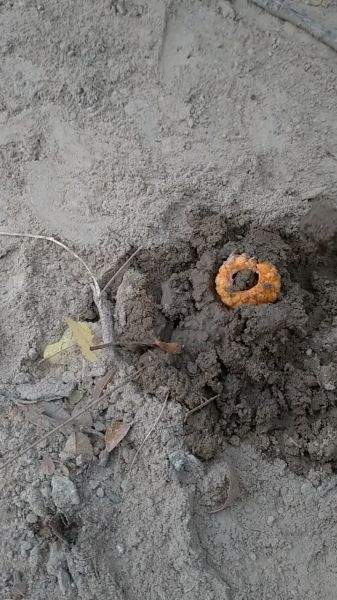eggs: (210, 248, 288, 315)
